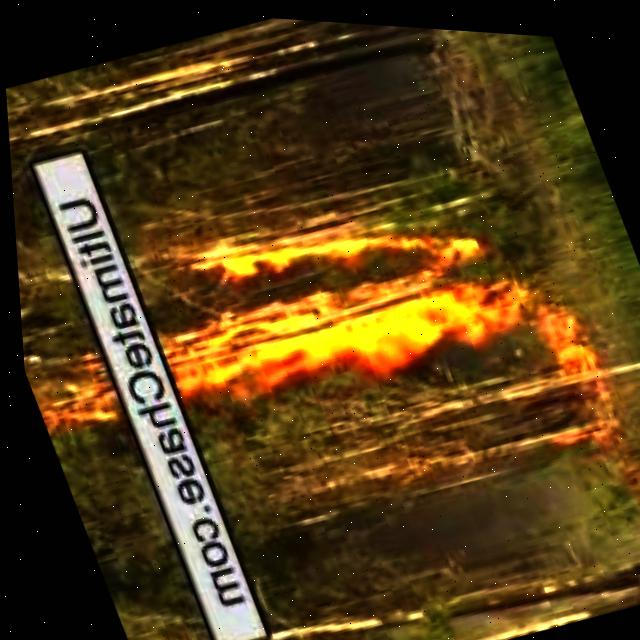Fire: (111, 138, 532, 452), (22, 358, 122, 445), (532, 296, 600, 372)
